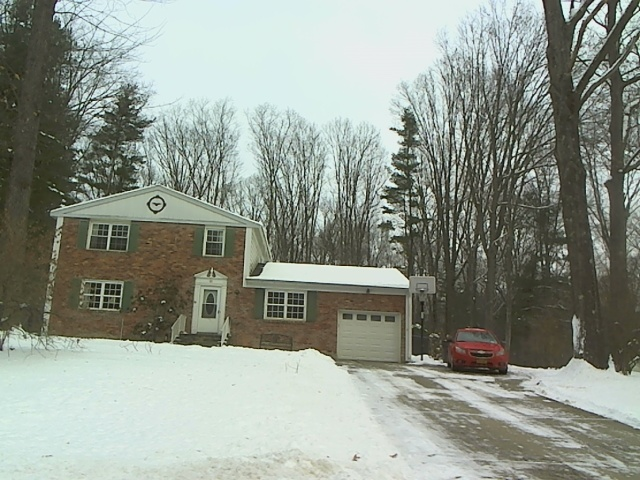Ploughed: (373, 374, 638, 479)
